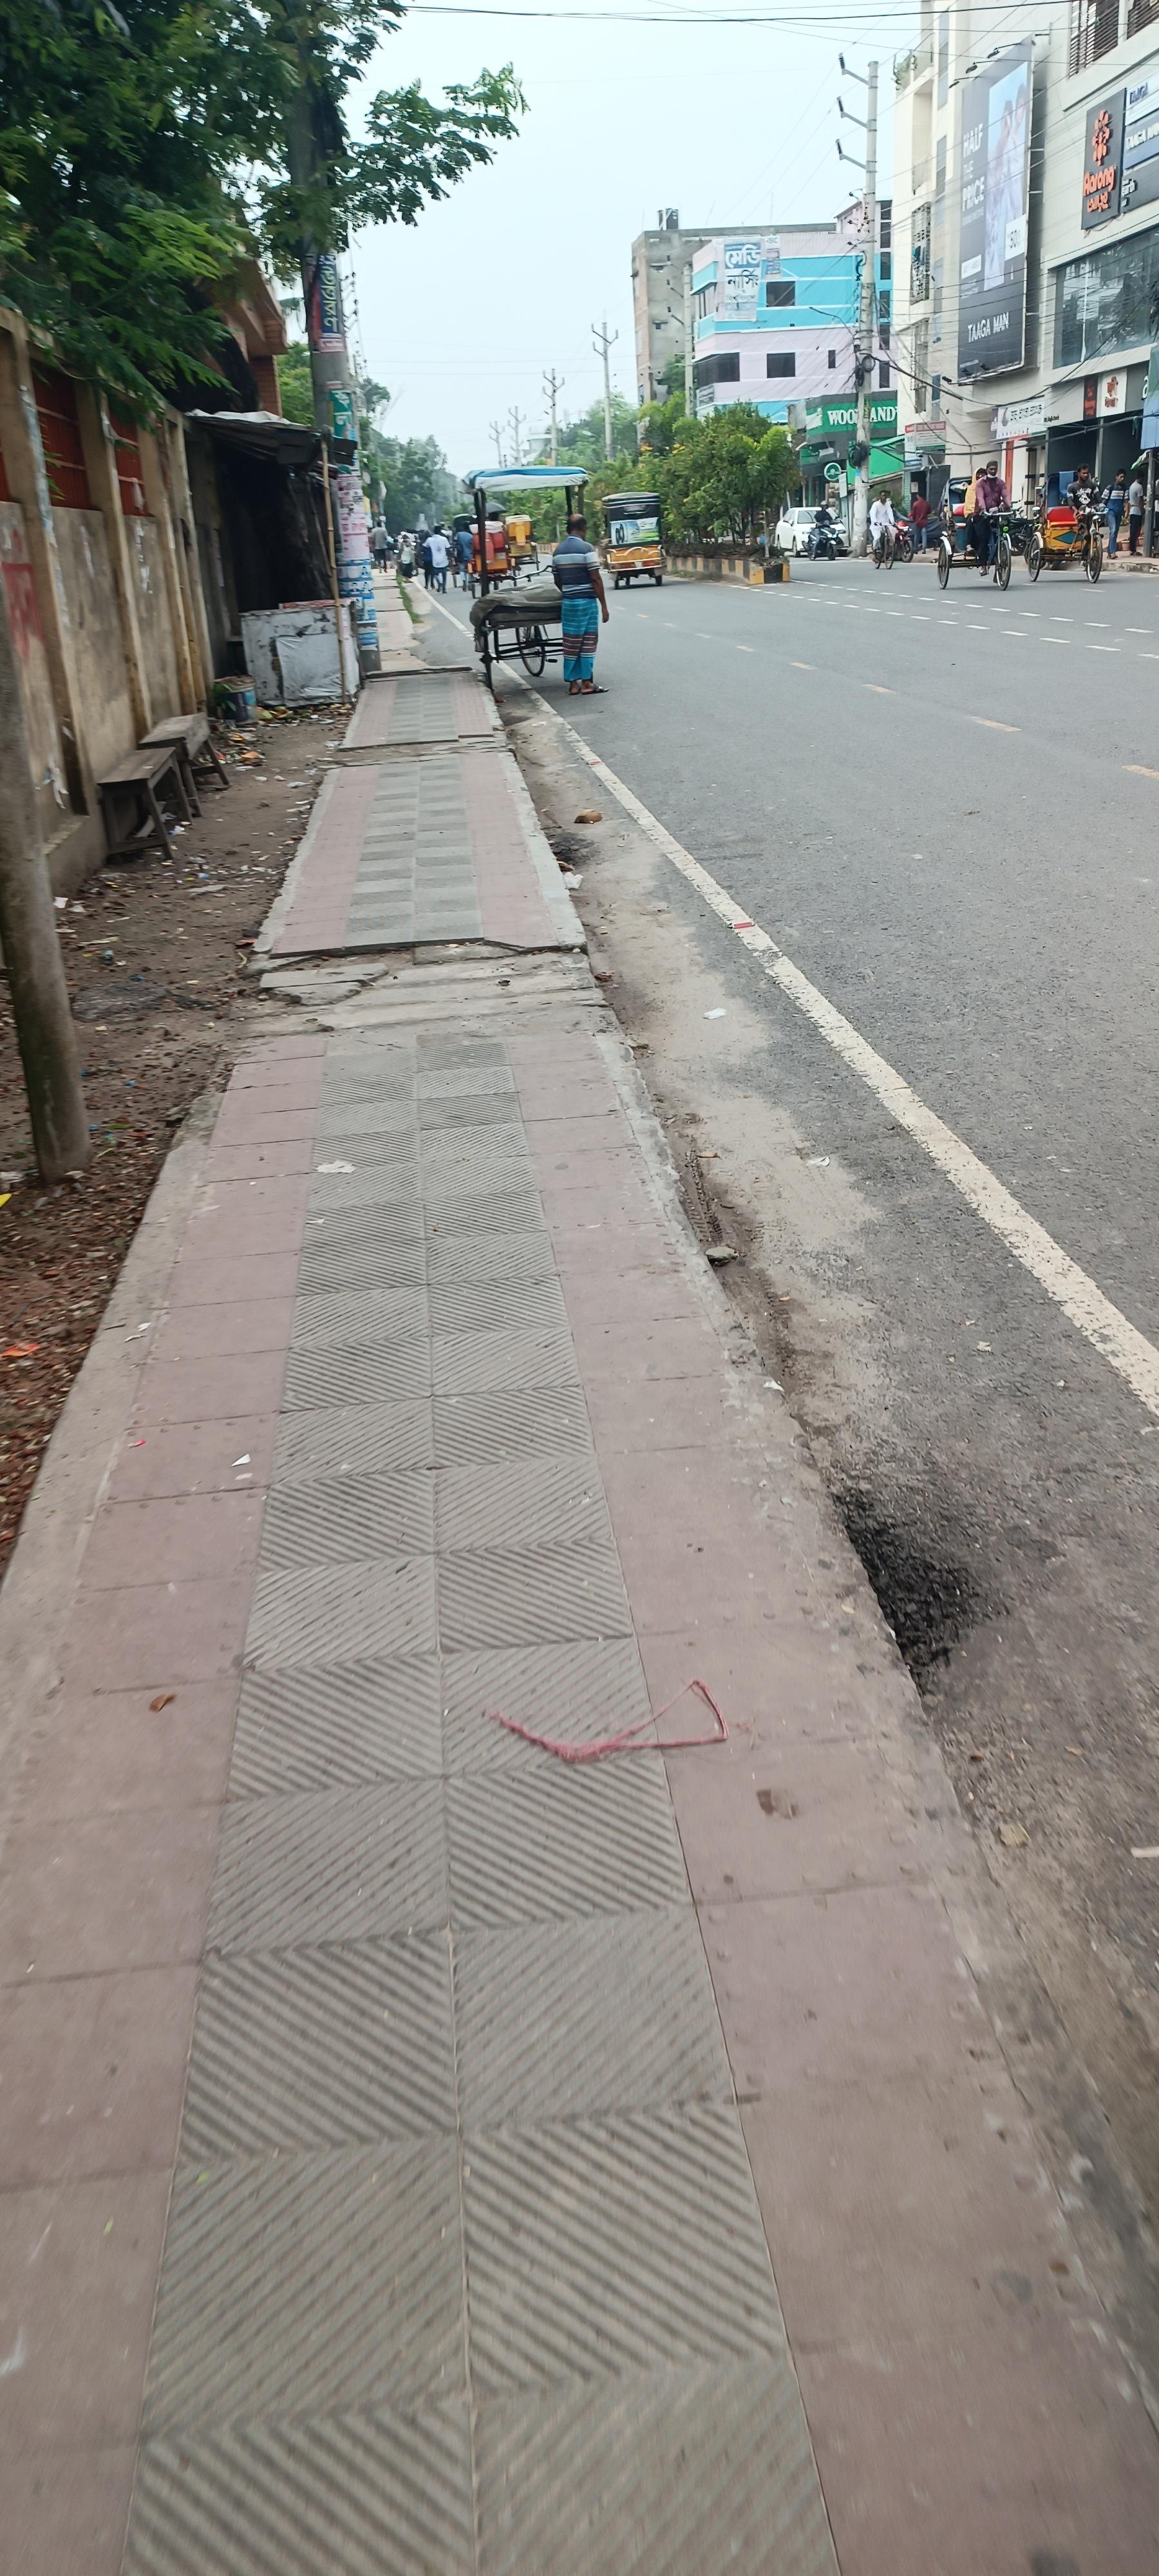Garbage-bin: (552, 515, 611, 695), (869, 492, 898, 567), (1106, 471, 1131, 555), (1126, 475, 1147, 554), (911, 492, 931, 552)
Pothole: (0, 559, 1147, 2575)
Traffic-cone: (463, 466, 589, 596), (600, 491, 666, 588)
